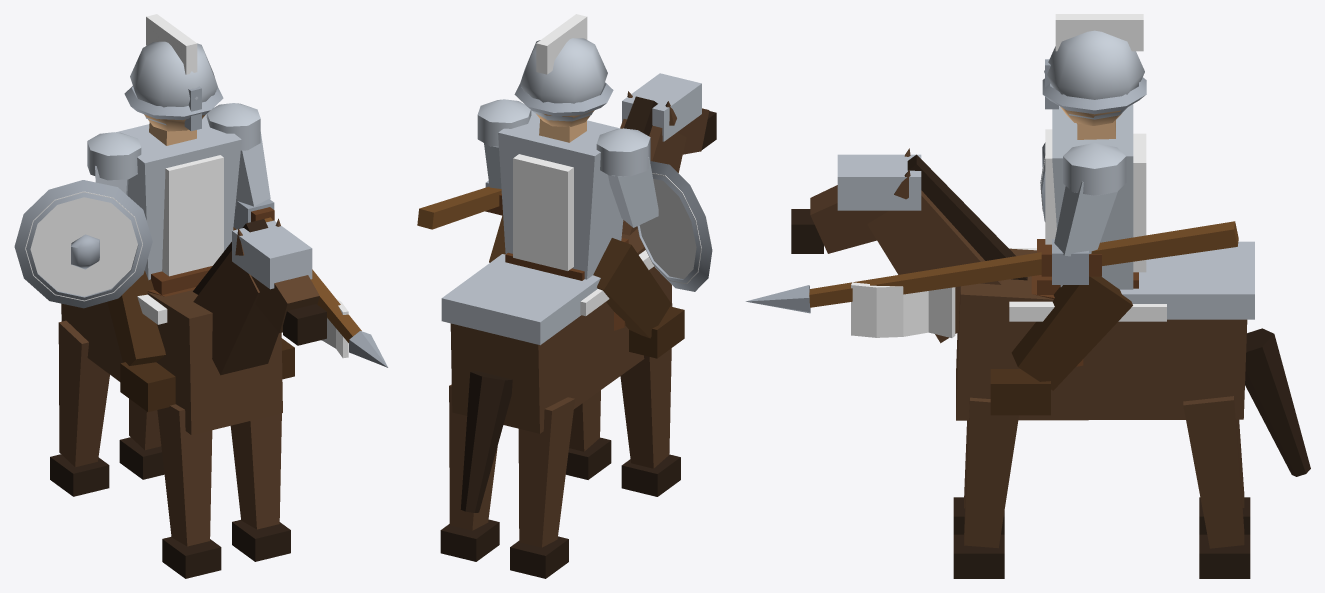
Rendered from Cavalry_SecondAge.glb.
The picture shows the model from 3 angles, left to right: view 1: azimuth 30°, elevation 25°; view 2: azimuth 150°, elevation 25°; view 3: azimuth 270°, elevation 25°; orthographic projection. The views are drawn at different scales.
Visible parts, largest first — view 1: Horse, Metal, LegB_Horse, Team, Left_Team, LegA_Horse, Left_Steel, Dark, LegB_Mane, LegA_Mane, Mane, Steel (+6 smaller); view 2: Metal, Horse, Team, LegB_Horse, LegA_Horse, Dark, Mane, Left_Team, LegA_Mane, LegB_Mane, Left_Steel, Left_Metal (+5 smaller); view 3: Horse, Metal, Dark, Mane, Right_Wood, LegA_Horse, Team, LegB_Horse, Right_Team, Right_Metal, LegA_Mane, LegB_Mane (+4 smaller).
Part boxes in pixels (<box>): Horse: <box>61,218,319,435</box>; Metal: <box>87,41,312,289</box>; LegB_Horse: <box>58,320,281,529</box>; Team: <box>137,14,223,324</box>; Left_Team: <box>25,191,142,301</box>; LegA_Horse: <box>129,398,212,546</box>; Left_Steel: <box>14,180,152,308</box>; Dark: <box>107,227,294,411</box>; LegB_Mane: <box>50,454,290,561</box>; LegA_Mane: <box>119,437,221,578</box>; Mane: <box>193,219,326,345</box>; Steel: <box>124,86,223,131</box>; Metal: <box>441,38,701,345</box>; Horse: <box>450,91,709,433</box>; Team: <box>513,14,653,316</box>; LegB_Horse: <box>518,390,600,547</box>; LegA_Horse: <box>449,348,671,530</box>; Dark: <box>489,215,684,358</box>; Mane: <box>460,96,716,512</box>; Left_Team: <box>637,173,711,283</box>; LegA_Mane: <box>440,454,680,561</box>; LegB_Mane: <box>510,437,611,578</box>; Left_Steel: <box>637,161,712,291</box>; Left_Metal: <box>608,157,658,227</box>; Horse: <box>810,148,1247,420</box>; Metal: <box>837,30,1254,319</box>; Dark: <box>990,276,1132,415</box>; Mane: <box>791,154,1310,476</box>; Right_Wood: <box>809,221,1238,307</box>; LegA_Horse: <box>964,396,1244,548</box>; Team: <box>1009,14,1166,321</box>; LegB_Horse: <box>964,397,1244,548</box>; Right_Team: <box>851,282,955,337</box>; Right_Metal: <box>1054,181,1117,256</box>; LegA_Mane: <box>953,497,1250,578</box>; LegB_Mane: <box>953,497,1250,578</box>.
Bounding box in the file's own units: 0.6486 × 1.27 × 1.22.
